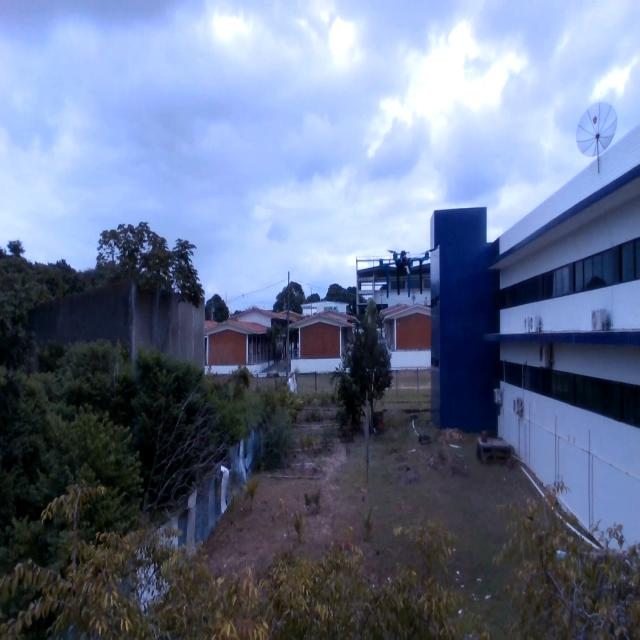-uav-: (369, 236, 438, 317)
